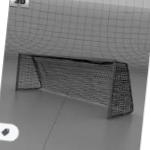goals: (12, 50, 136, 120)
